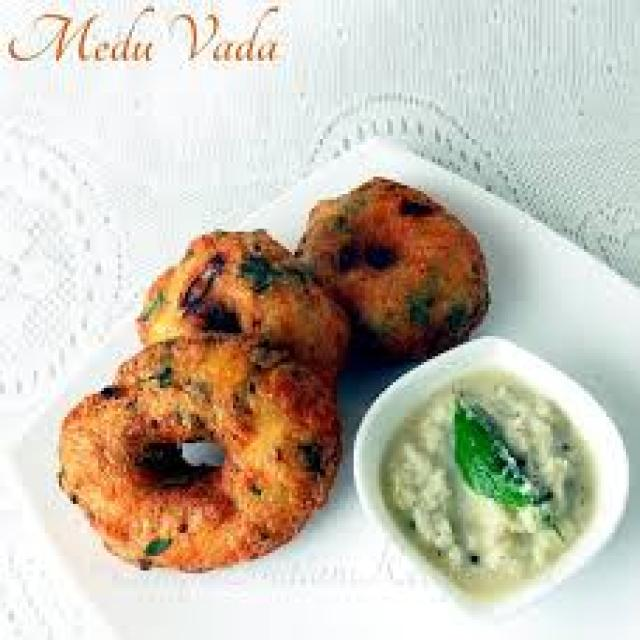MEDU VADA: (56, 345, 329, 572), (294, 180, 491, 363), (134, 230, 344, 373)
